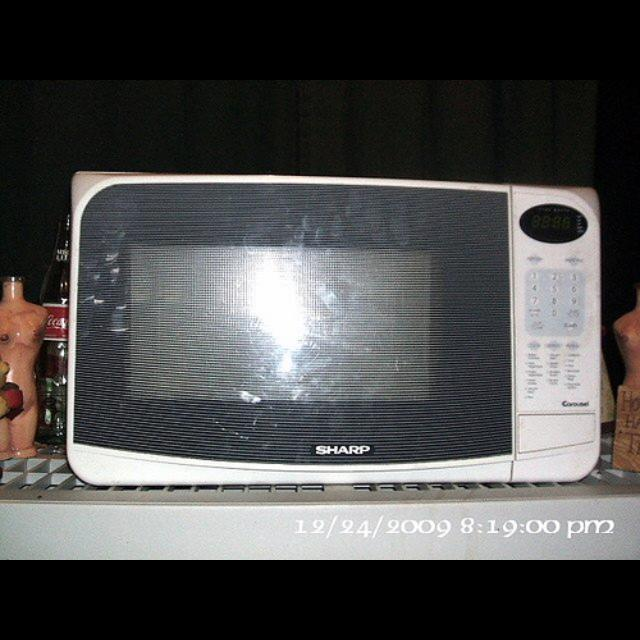Microwave: (66, 172, 602, 488)
